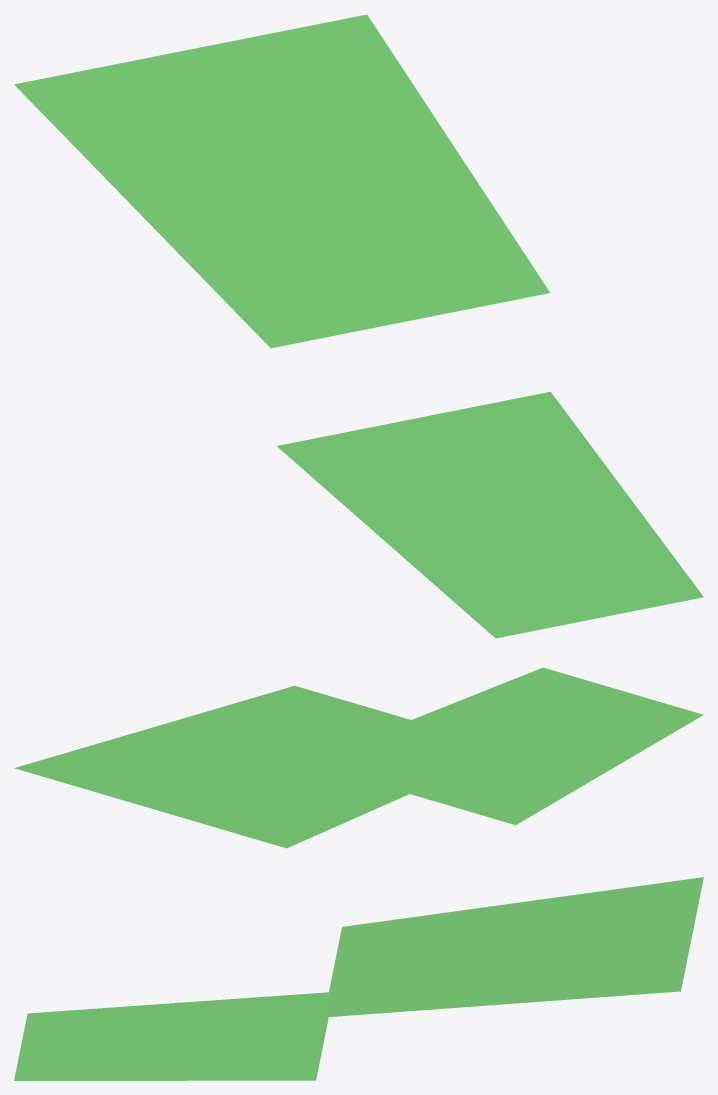
Rendered from roulette_field.glb.
3 renders of one model, top to bottom at view 1: azimuth 30°, elevation 25°; view 2: azimuth 150°, elevation 25°; view 3: azimuth 270°, elevation 25°, orthographic. The views are drawn at different scales.
Visible parts, largest first — view 1: Field-col; view 2: Field-col; view 3: Field-col.
Boxes of the visible parts, box(x1,y1,x2,y2) form: Field-col: box(14, 14, 703, 638); Field-col: box(14, 667, 703, 848); Field-col: box(14, 877, 703, 1080).
Bounding box in the file's own units: 0.0316 × 0.0175 × 0.0796.
Materials: 1 (1 with a texture image).
